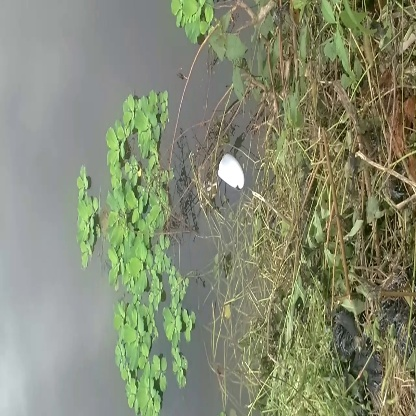leaf: (70, 163, 104, 268)
